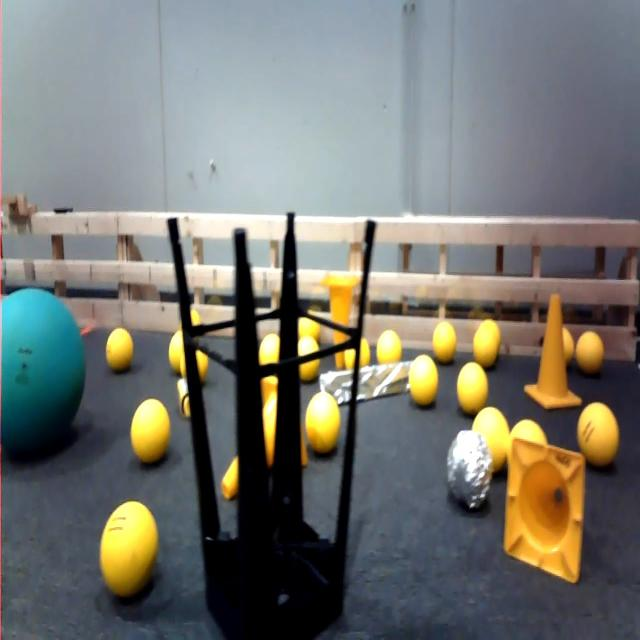fuel: (94, 493, 168, 615), (573, 392, 624, 478), (126, 393, 178, 470), (302, 386, 344, 462), (472, 400, 513, 476), (506, 404, 545, 482), (450, 348, 497, 412), (403, 346, 446, 414), (97, 319, 141, 377), (256, 323, 294, 387), (374, 314, 414, 370), (577, 318, 608, 388), (427, 310, 462, 367), (294, 328, 330, 383), (339, 330, 374, 374), (556, 322, 584, 374), (180, 335, 210, 381), (167, 325, 190, 380), (481, 301, 508, 344), (297, 305, 325, 346), (181, 294, 208, 334), (468, 325, 491, 367)
